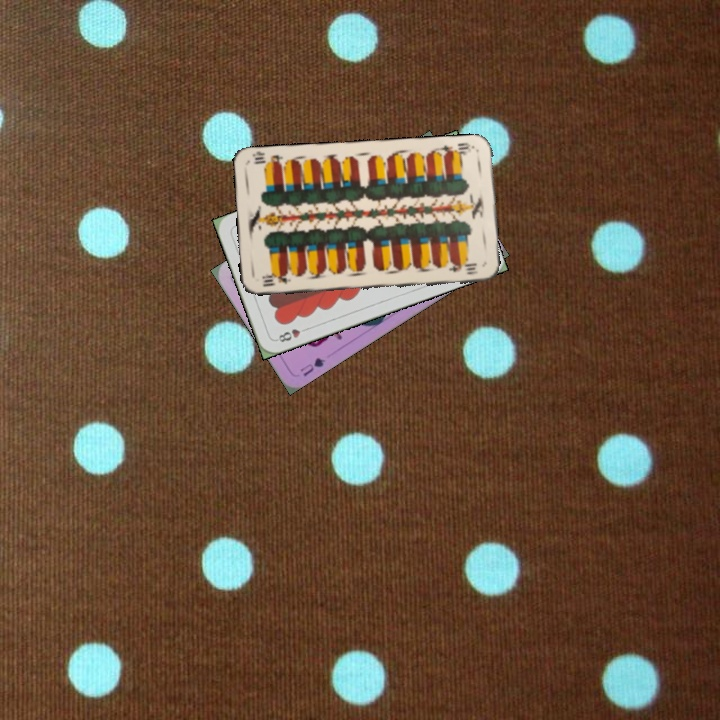E10: (436, 139, 477, 159), (258, 269, 293, 289)
GU: (296, 353, 328, 379)
H8: (272, 323, 311, 345)
